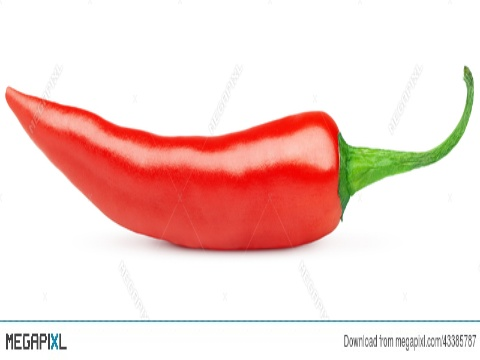Chilli: (2, 68, 478, 256)
